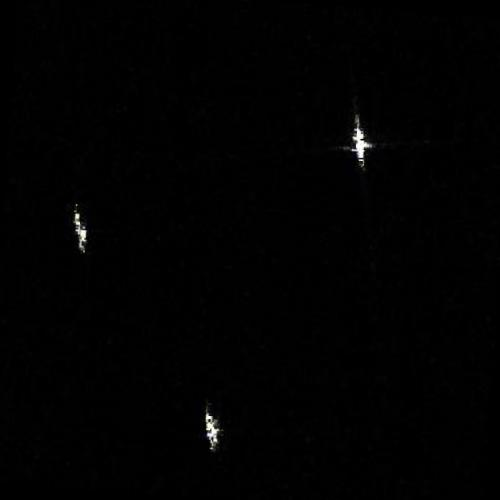ship: (202, 409, 219, 452), (352, 121, 366, 169), (72, 208, 87, 252)
